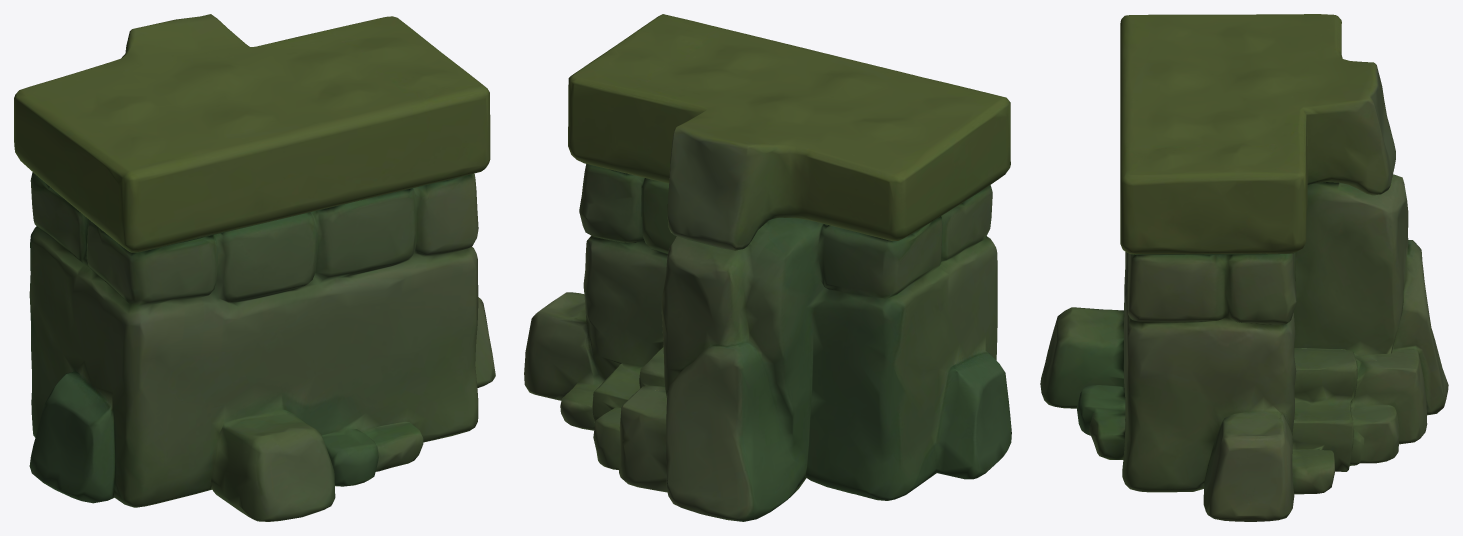
File: cliff_straight_b.1k.glb
3 views of the same model, side by side, from view 1: azimuth 30°, elevation 25°; view 2: azimuth 150°, elevation 25°; view 3: azimuth 270°, elevation 25° (orthographic). The views are drawn at different scales.
Parts seen in each view (by area): view 1: tripo_node_af0360eb-a1dc-4cb1-b8dd-a58a8ef5206c; view 2: tripo_node_af0360eb-a1dc-4cb1-b8dd-a58a8ef5206c; view 3: tripo_node_af0360eb-a1dc-4cb1-b8dd-a58a8ef5206c.
Part boxes in pixels (x1,y1,x2,y2): tripo_node_af0360eb-a1dc-4cb1-b8dd-a58a8ef5206c: [14, 14, 495, 521]; tripo_node_af0360eb-a1dc-4cb1-b8dd-a58a8ef5206c: [524, 14, 1011, 521]; tripo_node_af0360eb-a1dc-4cb1-b8dd-a58a8ef5206c: [1040, 14, 1448, 521].
Bounding box in the file's own units: 1 × 0.7522 × 0.8305.
Materials: 1 (1 with a texture image).
